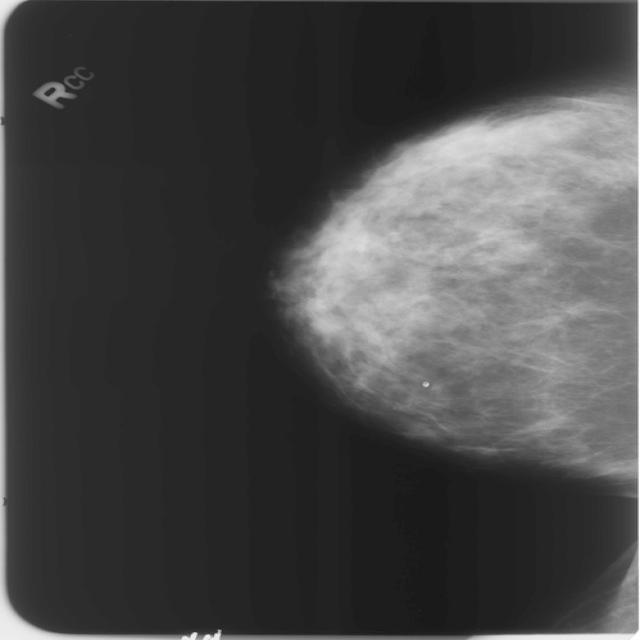tumour: (485, 108, 587, 154)
